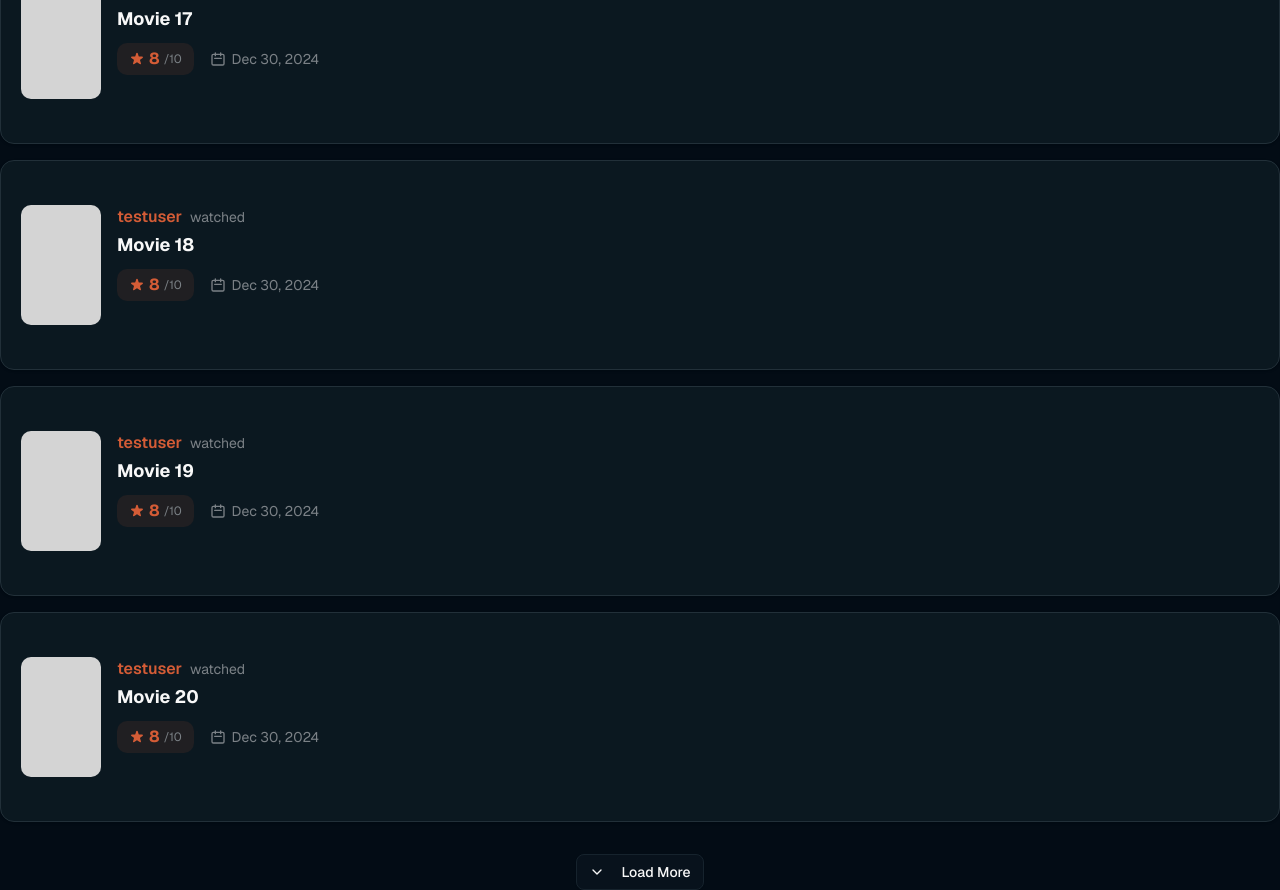
it: GroupFeed › shows loading state while loading more items
This screenshot has width=1280, height=890.
(page scrolled)
Click the button "Load More".
click(640, 872)  # box [576,854,704,889]
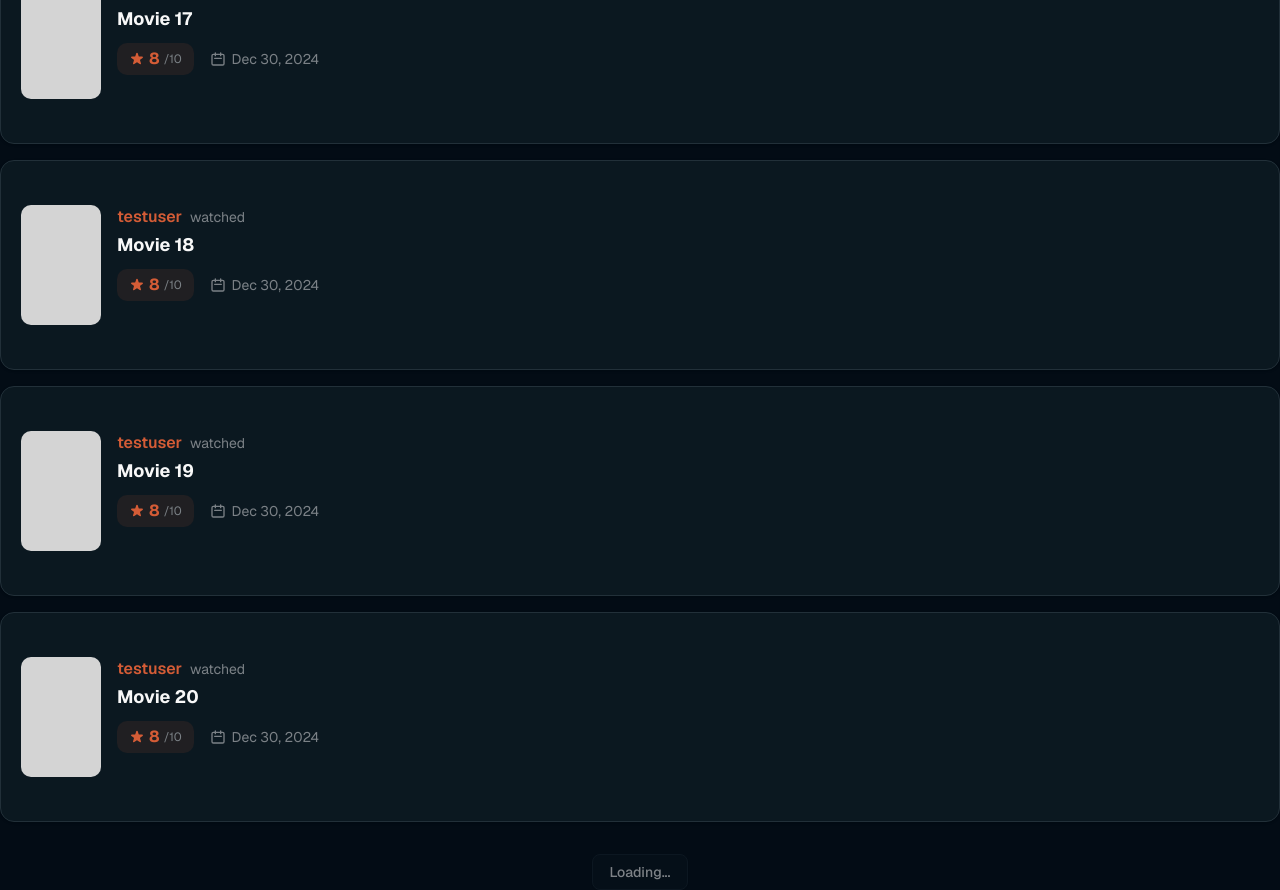
Check: the button "Loading..." is shown, box [592,854,688,889]
